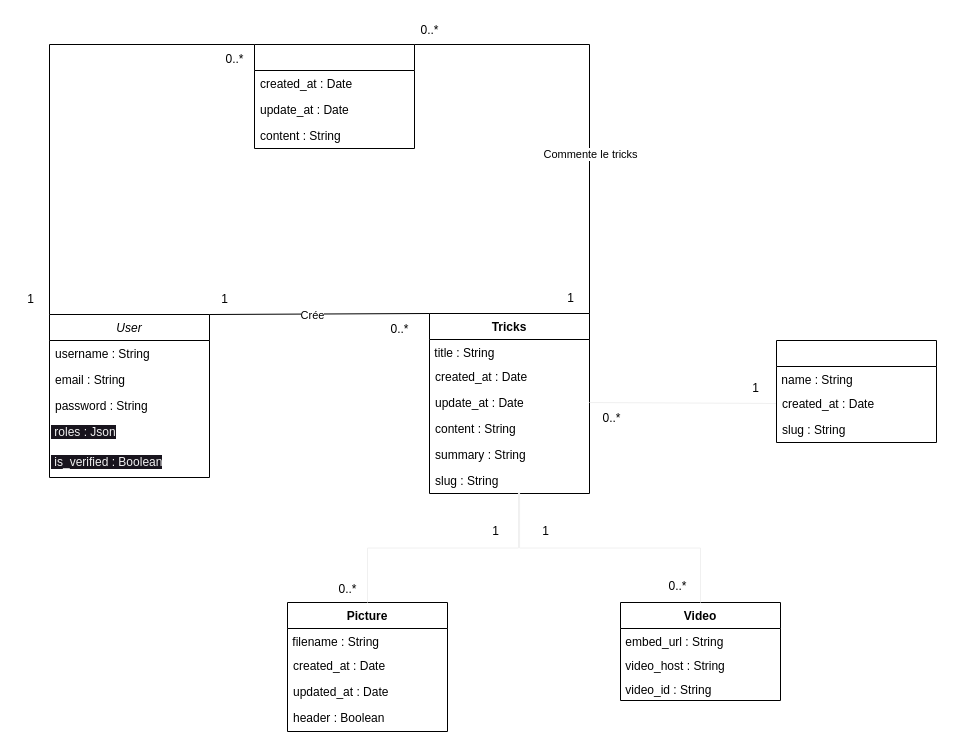
Some shapes in this 954 by 751 pixel diagram are drawn without their labels. Here are the shapes that lost their labels. From the top down, the box of each, then its label:
(254, 44, 414, 148): Comment
(776, 340, 936, 442): Category
